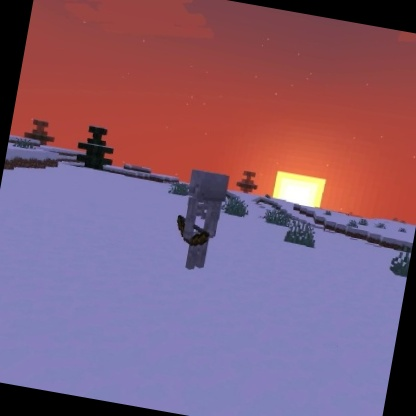skeleton: (165, 165, 233, 278)
